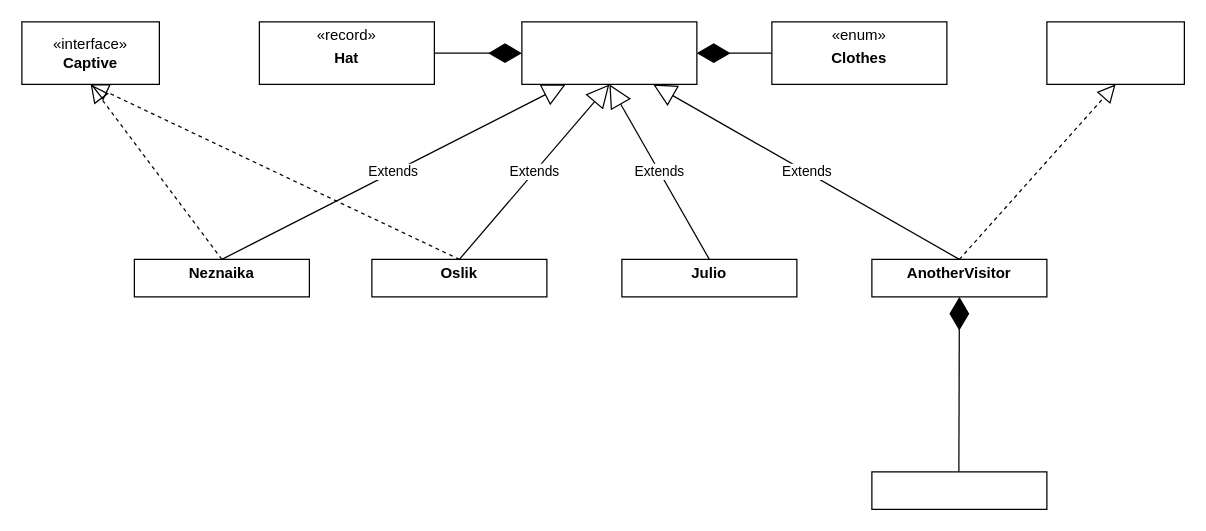
Some shapes in this 1206 by 531 pixel diagram are drawn without their labels. The shapes that lost their labels are listed below. From the top down, each one's centre as x and y in pixels, then its label:
point 609,52: «abstract class» Person
point 1115,52: «interface» Bayer
point 959,490: Pistol
